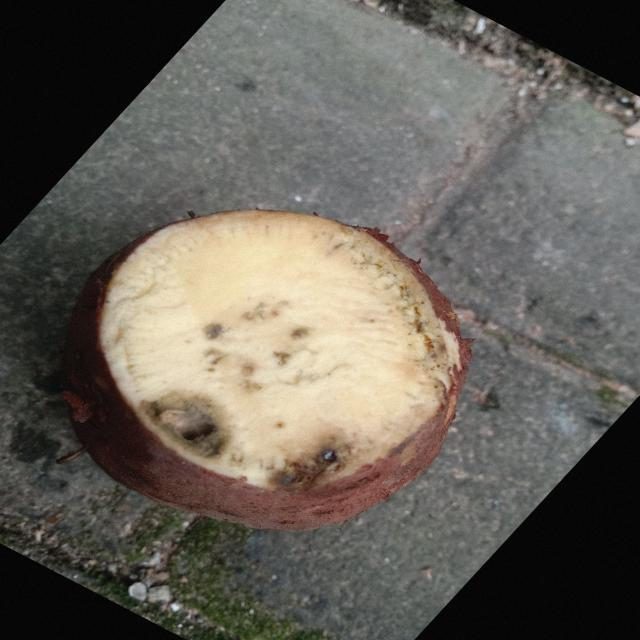Sick Sweet Potato_Tuber Rot: (100, 210, 460, 490)
